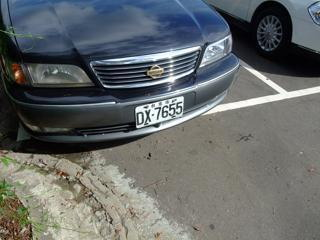plate: (132, 100, 185, 122)
